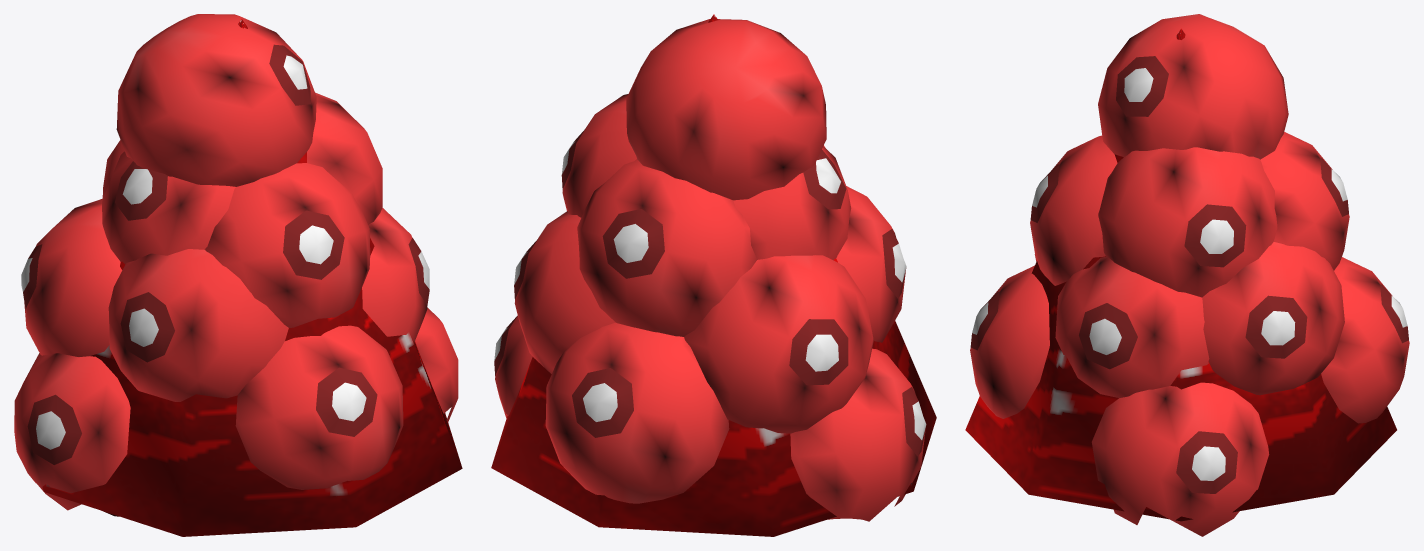
File: obstaculo.fbx
The picture shows the model from 3 angles, left to right: view 1: azimuth 30°, elevation 25°; view 2: azimuth 150°, elevation 25°; view 3: azimuth 270°, elevation 25°; orthographic projection. The views are drawn at different scales.
Visible parts, largest first — view 1: Olho, Obstaculo; view 2: Olho, Obstaculo; view 3: Olho, Obstaculo.
Part boxes in pixels (bbox=[...]): Olho: bbox=[14, 14, 458, 516]; Obstaculo: bbox=[42, 19, 462, 536]; Olho: bbox=[494, 19, 926, 521]; Obstaculo: bbox=[491, 14, 936, 536]; Olho: bbox=[970, 14, 1409, 536]; Obstaculo: bbox=[965, 28, 1396, 521].
Size of the model in its own units: 246 by 264 by 244.
